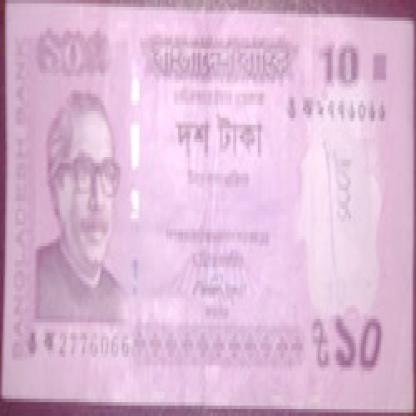Ten Taka: (331, 288, 393, 395), (313, 28, 364, 104), (35, 24, 95, 87)
